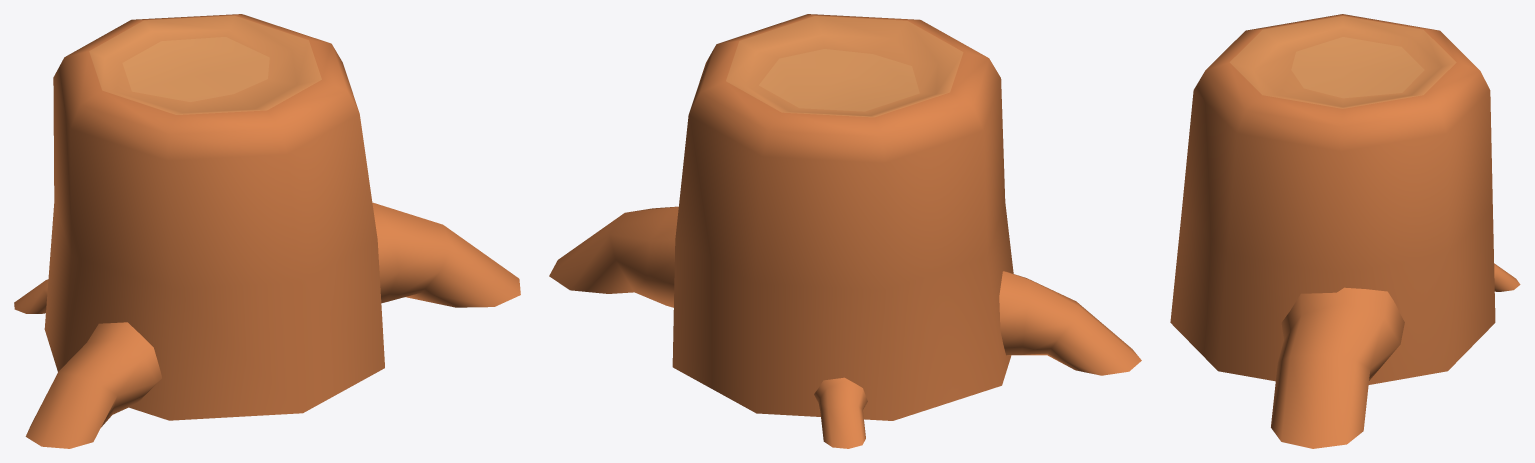
File: platform_kit037.fbx
3 views of the same model, side by side, from view 1: azimuth 30°, elevation 25°; view 2: azimuth 150°, elevation 25°; view 3: azimuth 270°, elevation 25° (orthographic). The views are drawn at different scales.
Parts seen in each view (by area): view 1: platform_kit037; view 2: platform_kit037; view 3: platform_kit037.
Boxes of the visible parts, x1,y1,x2,y2 form: platform_kit037: [14, 14, 520, 448]; platform_kit037: [549, 14, 1141, 448]; platform_kit037: [1170, 14, 1520, 448].
Bounding box in the file's own units: 137 × 70.12 × 85.41.
1 material, 1 textured.
